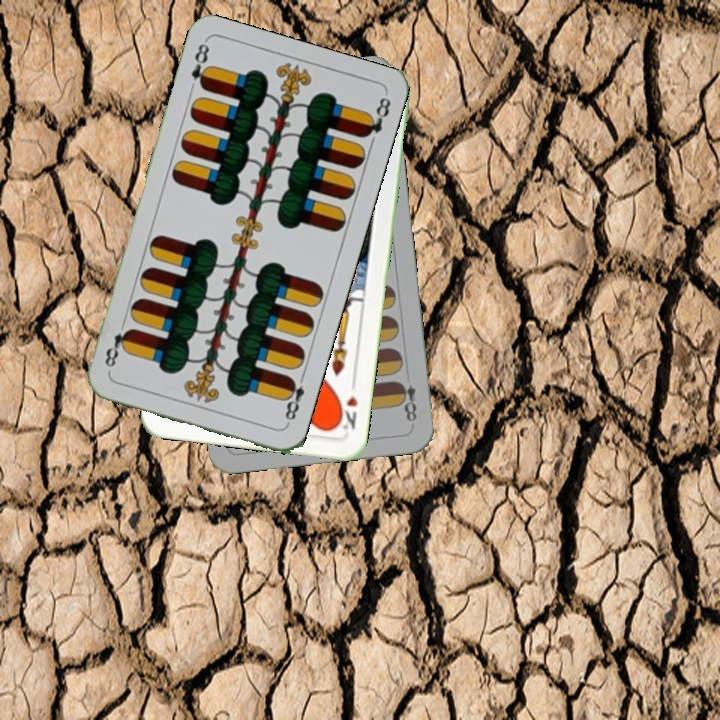E8: (279, 370, 308, 427), (187, 39, 214, 92), (394, 377, 419, 427)
HK: (333, 376, 361, 432)
